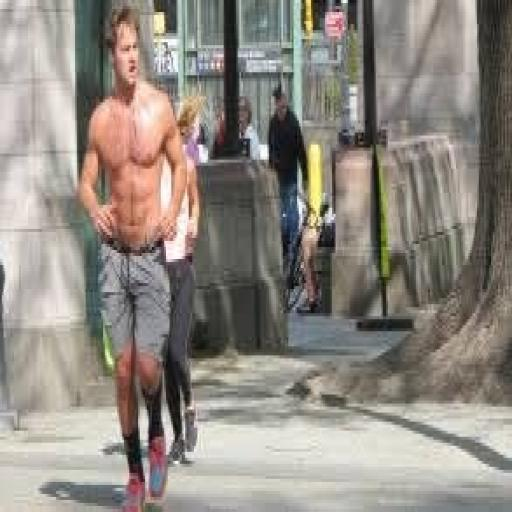running: (75, 3, 189, 509)
